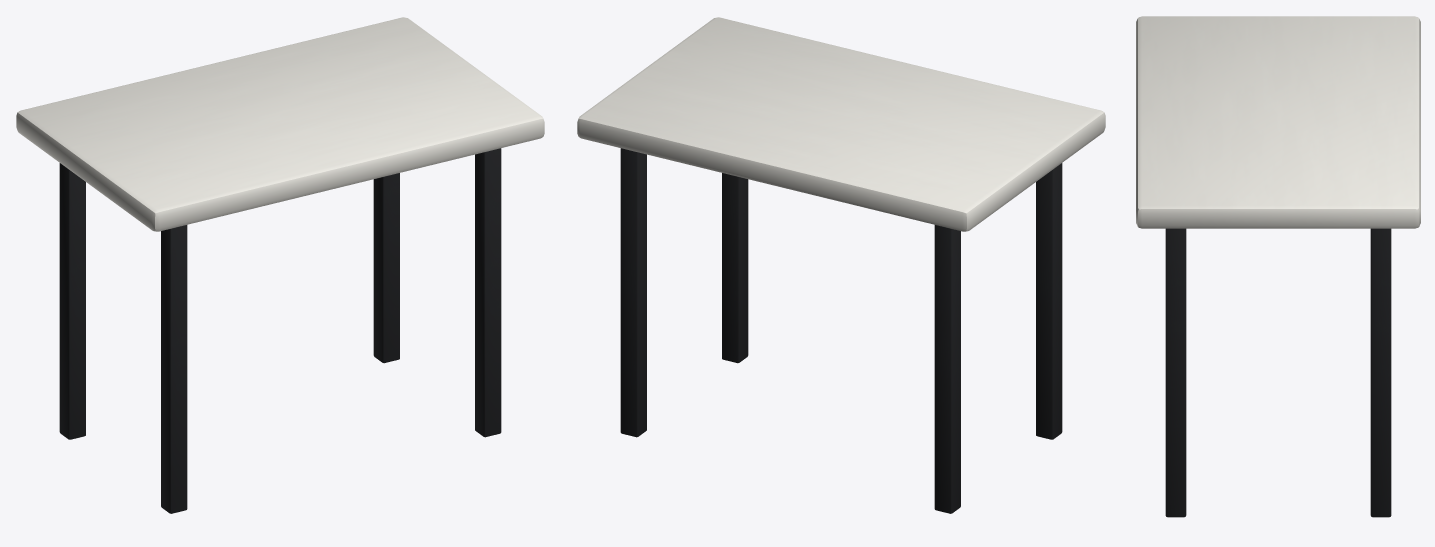
The model's file is pf_display_feature_table_t1.glb.
3 views of the same model, side by side, from view 1: azimuth 30°, elevation 25°; view 2: azimuth 150°, elevation 25°; view 3: azimuth 270°, elevation 25° (orthographic).
Visible parts, largest first — view 1: Feature_Table_Top, Leg_+0.40_-0.22, Leg_-0.40_-0.22, Leg_-0.40_+0.22, Leg_+0.40_+0.22; view 2: Feature_Table_Top, Leg_+0.40_+0.22, Leg_-0.40_+0.22, Leg_-0.40_-0.22, Leg_+0.40_-0.22; view 3: Feature_Table_Top, Leg_+0.40_+0.22, Leg_+0.40_-0.22.
Part boxes in pixels (x1=…): Feature_Table_Top: x1=16, y1=17, x2=544, y2=231; Leg_+0.40_-0.22: x1=475, y1=148, x2=501, y2=437; Leg_-0.40_-0.22: x1=161, y1=225, x2=187, y2=513; Leg_-0.40_+0.22: x1=59, y1=163, x2=85, y2=439; Leg_+0.40_+0.22: x1=373, y1=173, x2=399, y2=363; Feature_Table_Top: x1=577, y1=17, x2=1105, y2=231; Leg_+0.40_+0.22: x1=620, y1=148, x2=646, y2=437; Leg_-0.40_+0.22: x1=934, y1=225, x2=960, y2=513; Leg_-0.40_-0.22: x1=1036, y1=163, x2=1062, y2=439; Leg_+0.40_-0.22: x1=722, y1=173, x2=748, y2=363; Feature_Table_Top: x1=1136, y1=16, x2=1420, y2=228; Leg_+0.40_+0.22: x1=1370, y1=228, x2=1391, y2=517; Leg_+0.40_-0.22: x1=1165, y1=228, x2=1186, y2=517.
Bounding box in the file's own units: 1 × 0.78 × 0.62.
3 materials, 2 textured.
